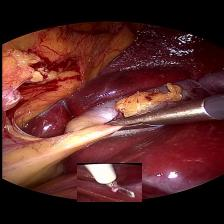Grasper: (99, 95, 216, 136)
Hook: (76, 163, 140, 202)
